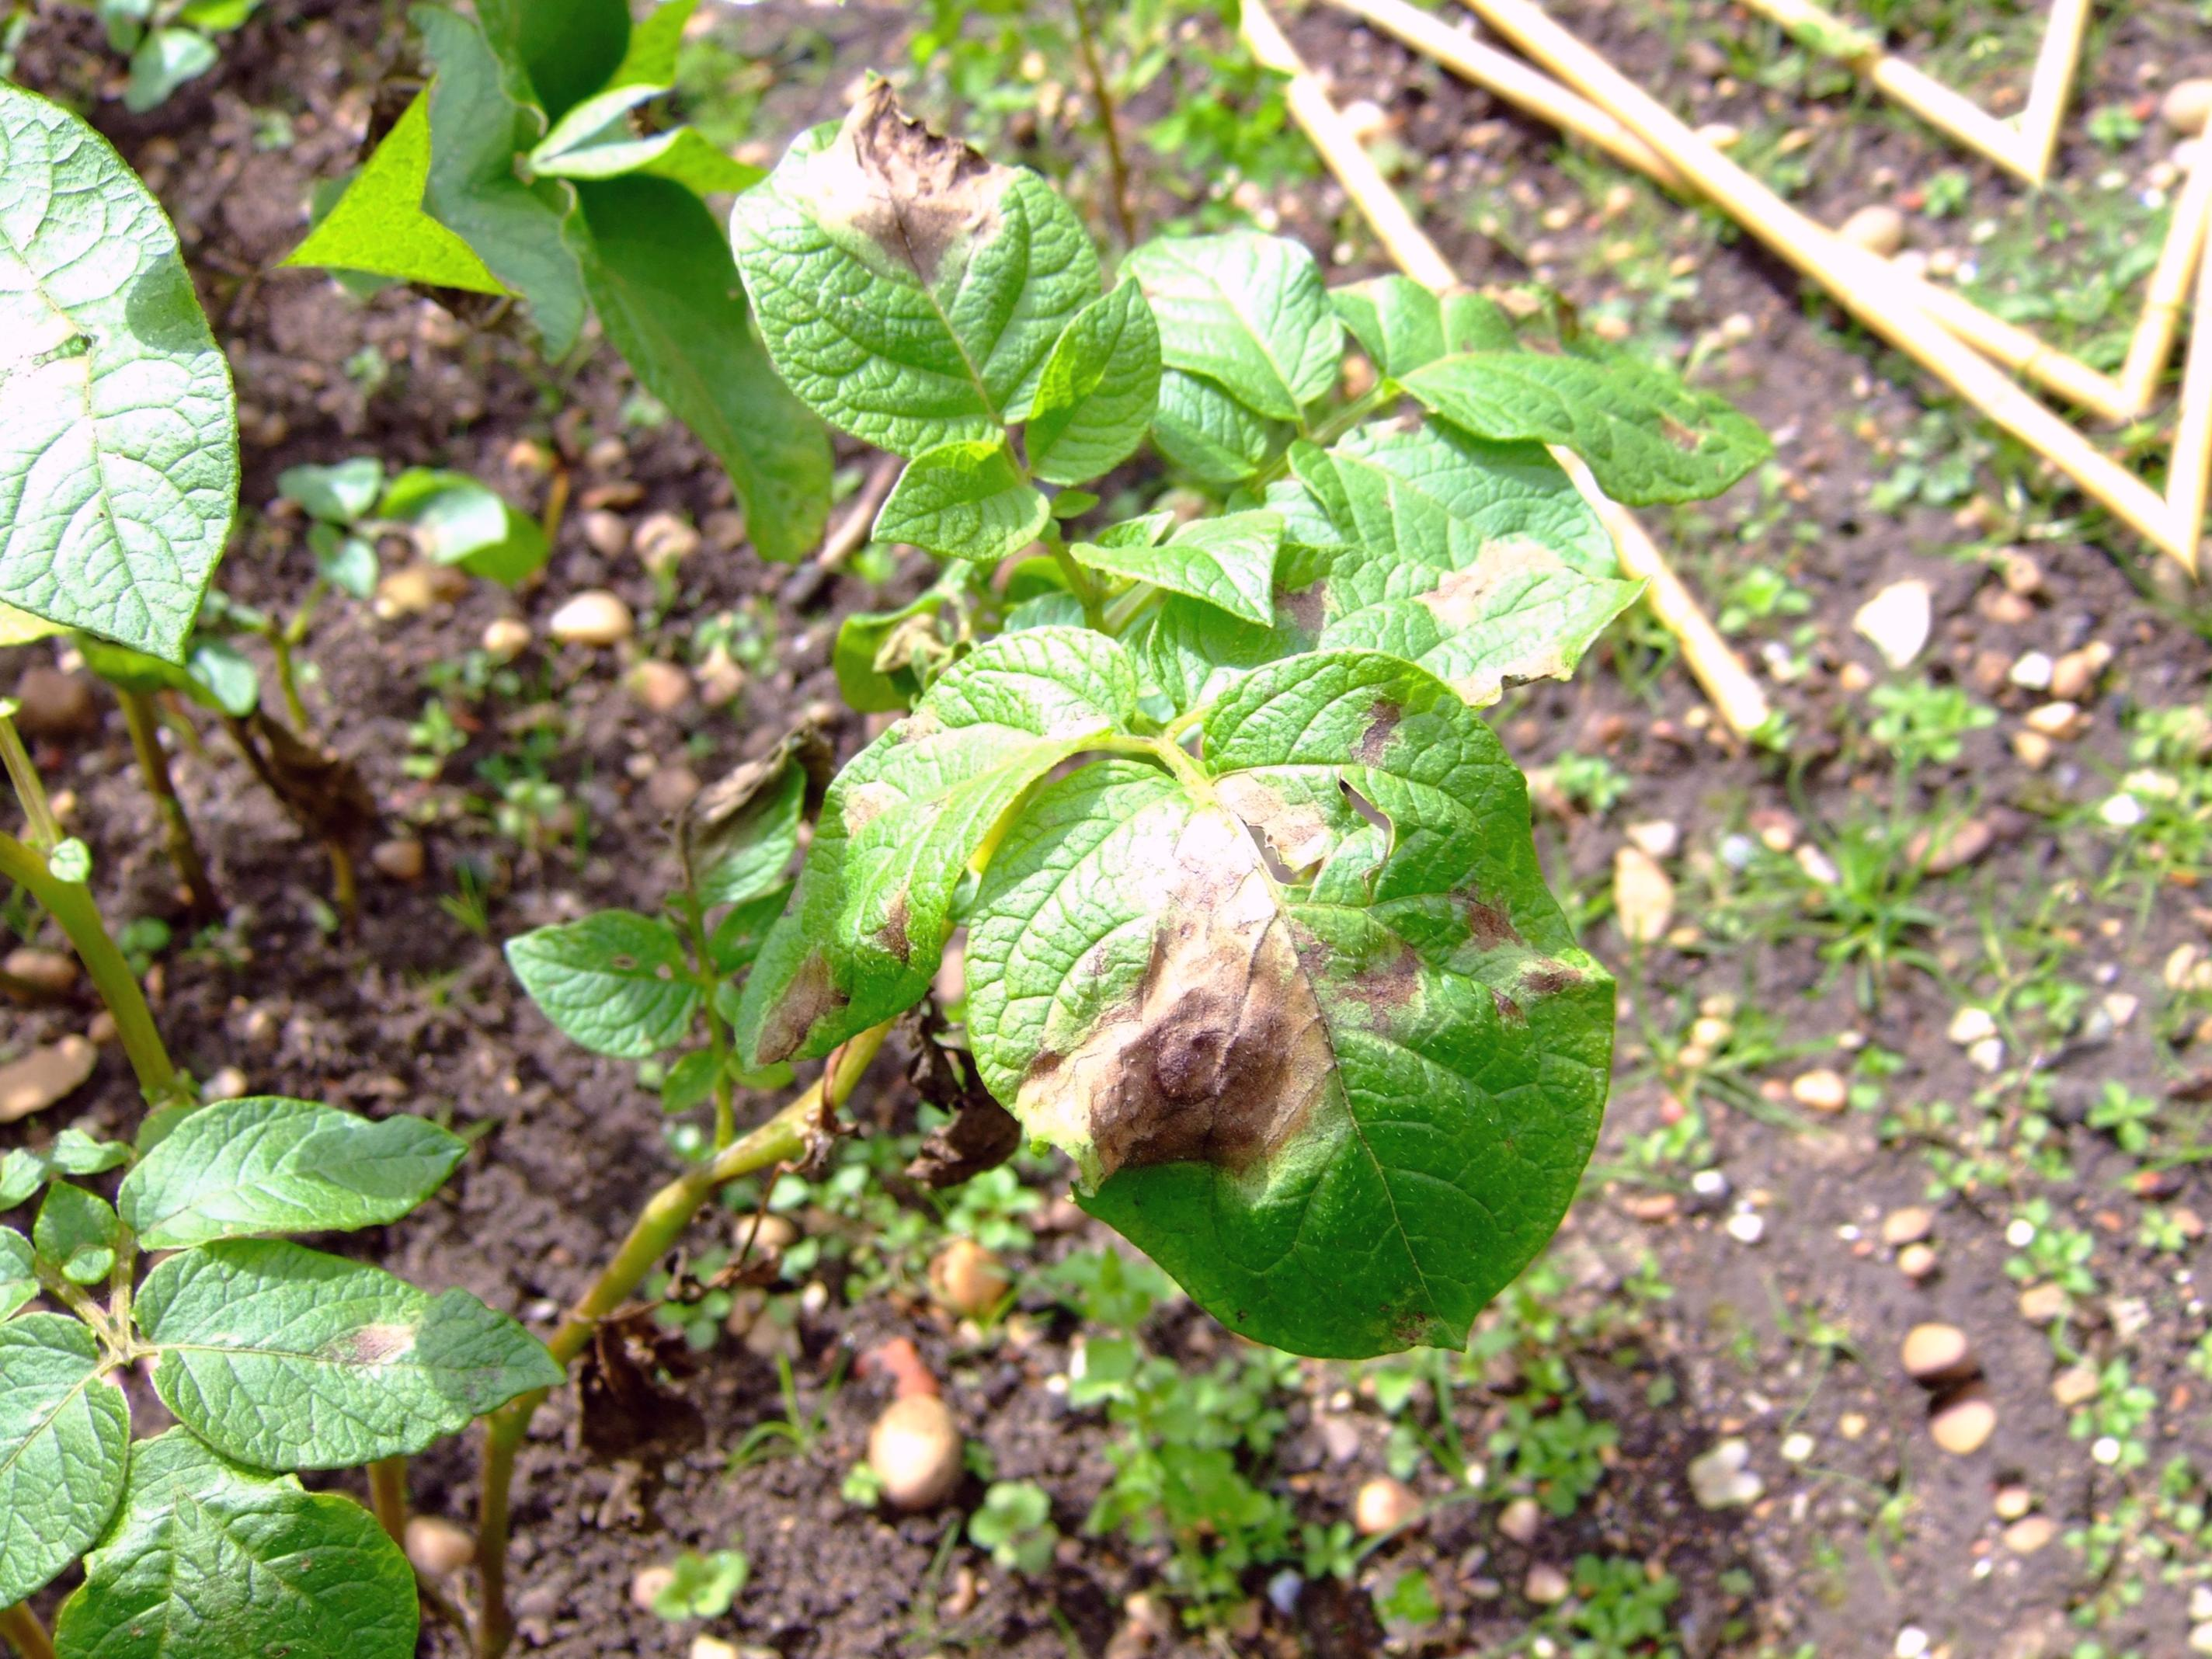Tomato leaf late blight: (880, 584, 1737, 1445)
